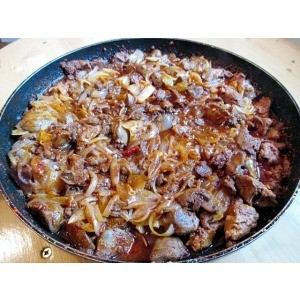liver_brain food: (44, 78, 238, 233)
